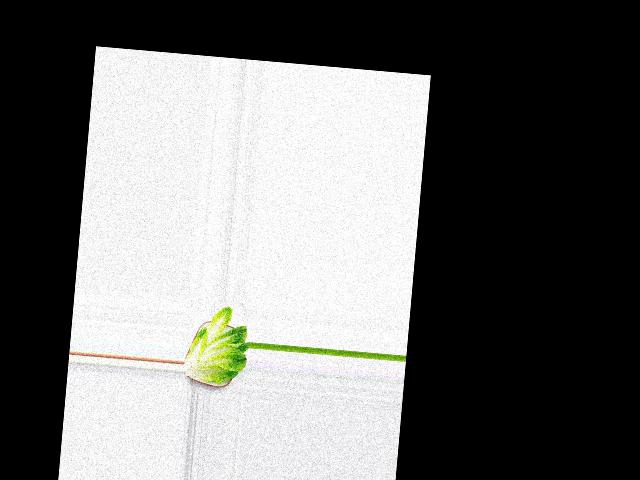lettuce: (184, 302, 253, 390)
